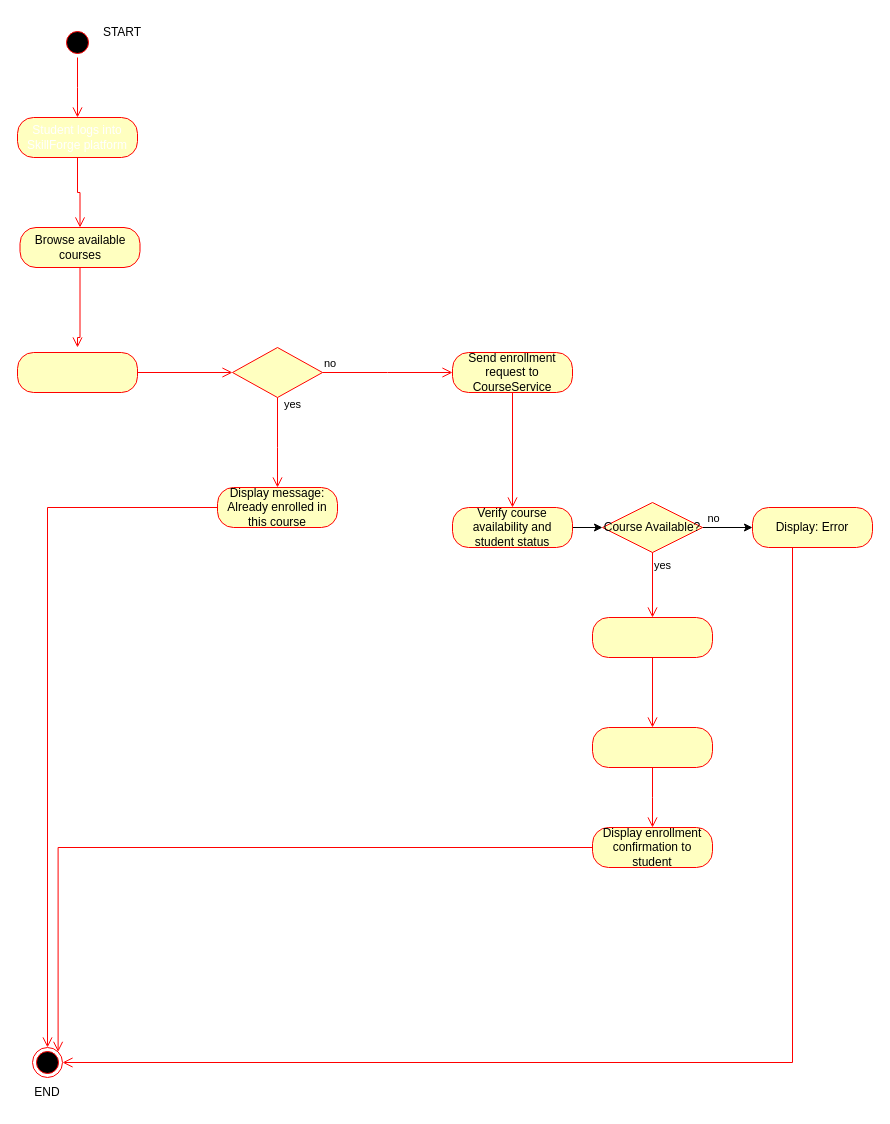
This 890x1124 diagram has some shape labels left out. The box of each missing label's shape, as (x1, y1, x2, y2) in pixels:
Add student to course enrollment list: (592, 616, 712, 658)
Is Student inrolled?: (232, 346, 322, 398)
Save enrollment data to JSON database: (592, 726, 712, 768)
Select desired course: (16, 352, 138, 392)
